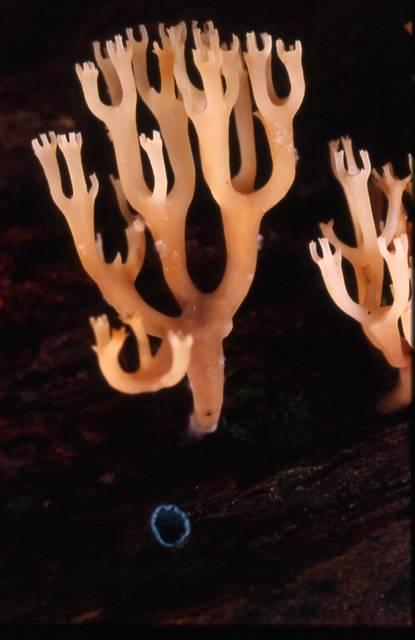Edible Mushroom: (30, 18, 307, 439), (307, 133, 414, 414)
